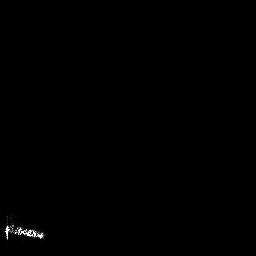ship: (2, 215, 46, 241)
